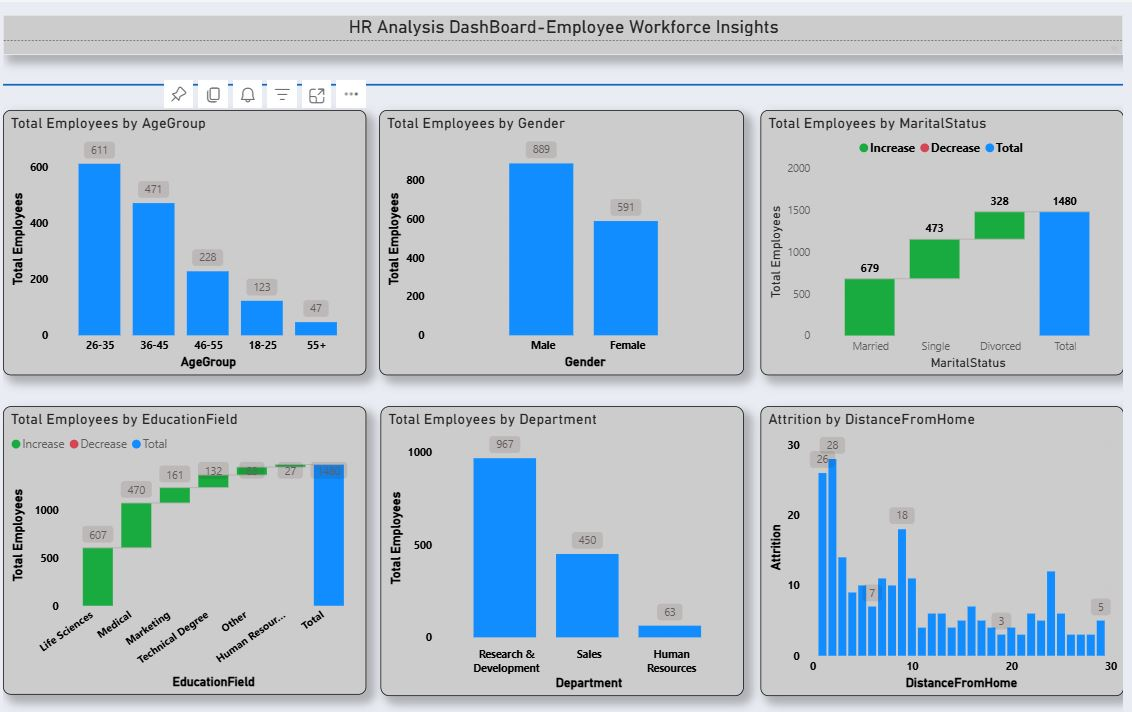

This screenshot's page, from the dashboard's own definition file:
{"tool":"powerbi","page":{"name":"Workforce Demographics","canvas":[1280,800],"ordinal":1},"visuals":[{"type":"textbox","title":"HR Analysis DashBoard-Employee Workforce Insights","box":[0,0,1280.3,45.3],"z":0},{"type":"shape","box":[0,71.7,1280.3,16.6],"z":2000},{"type":"clusteredColumnChart","fields":{"Category":["HR_Analytics.AgeGroup"],"Y":["HR_Measure.Total Employees"]},"box":[0,109,415.3,303.5],"z":10000},{"type":"columnChart","fields":{"Category":["HR_Analytics.Gender"],"Y":["HR_Measure.Total Employees"]},"box":[430.4,109,416.6,303.5],"z":11000},{"type":"waterfallChart","fields":{"Category":["HR_Analytics.MaritalStatus"],"Y":["HR_Measure.Total Employees"]},"box":[865,109,415.3,303.5],"z":12000},{"type":"waterfallChart","fields":{"Category":["HR_Analytics.EducationField"],"Y":["HR_Measure.Total Employees"]},"box":[0,447,415.3,329.7],"z":13000},{"type":"columnChart","fields":{"Category":["HR_Analytics.DistanceFromHome"],"Y":["HR_Measure.Attrition"]},"box":[865,447,415.3,331.1],"z":14000},{"type":"clusteredColumnChart","fields":{"Y":["HR_Measure.Total Employees"],"Category":["HR_Analytics.Department"]},"box":[431.8,447,415.3,331.1],"z":15000}]}

Visuals, with their boxes on the page's 1280x800 design canvas (x1, y1, x2, y2). These are canvas units, not pixel positions in the 1132x712 screenshot, which may show the page scaled, cropped or inside an application window:
"HR Analysis DashBoard-Employee Workforce Insights" textbox: <box>0,0,1280,45</box>
shape: <box>0,72,1280,88</box>
clusteredColumnChart - HR_Analytics.AgeGroup x HR_Measure.Total Employees: <box>0,109,415,412</box>
columnChart - HR_Analytics.Gender x HR_Measure.Total Employees: <box>430,109,847,412</box>
waterfallChart - HR_Analytics.MaritalStatus x HR_Measure.Total Employees: <box>865,109,1280,412</box>
waterfallChart - HR_Analytics.EducationField x HR_Measure.Total Employees: <box>0,447,415,777</box>
columnChart - HR_Analytics.DistanceFromHome x HR_Measure.Attrition: <box>865,447,1280,778</box>
clusteredColumnChart - HR_Measure.Total Employees x HR_Analytics.Department: <box>432,447,847,778</box>
